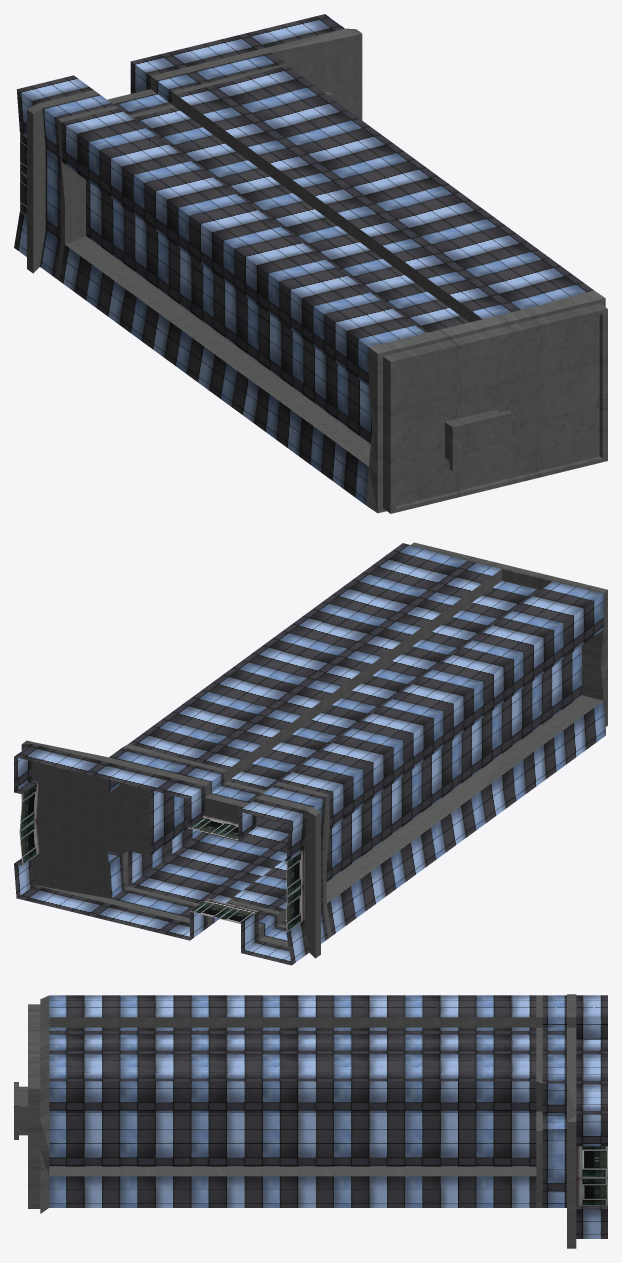
The model's file is skyscraper_windowE_02.obj.
3 views of the same model, one above another, from view 1: azimuth 30°, elevation 25°; view 2: azimuth 150°, elevation 25°; view 3: azimuth 270°, elevation 25° (orthographic). The views are drawn at different scales.
Parts seen in each view (by area): view 1: Zone_4x4_SeaWall_C_22; view 2: Zone_4x4_SeaWall_C_22; view 3: Zone_4x4_SeaWall_C_22.
Part boxes in pixels (bbox=[...]): Zone_4x4_SeaWall_C_22: bbox=[14, 14, 607, 513]; Zone_4x4_SeaWall_C_22: bbox=[14, 542, 607, 965]; Zone_4x4_SeaWall_C_22: bbox=[14, 994, 607, 1248].
Size of the model in its own units: 67.76 by 32.39 by 133.
Materials: 3 (3 with a texture image).
